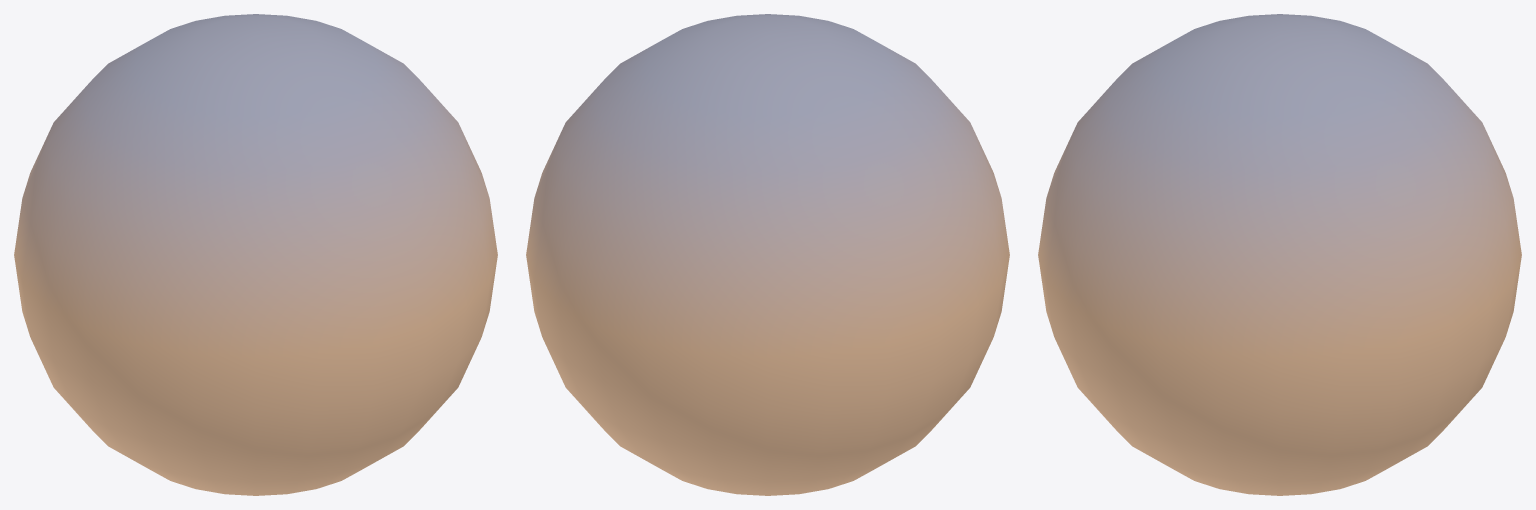
The model's file is sky-sunset.glb.
The picture shows the model from 3 angles, left to right: view 1: azimuth 30°, elevation 25°; view 2: azimuth 150°, elevation 25°; view 3: azimuth 270°, elevation 25°; orthographic projection.
Parts seen in each view (by area): view 1: sky-sunset_mesh; view 2: sky-sunset_mesh; view 3: sky-sunset_mesh.
Part boxes in pixels (left/top/right/bottom): sky-sunset_mesh: left=14, top=14, right=497, bottom=495; sky-sunset_mesh: left=526, top=14, right=1009, bottom=495; sky-sunset_mesh: left=1038, top=14, right=1521, bottom=495.
Bounding box in the file's own units: 124 × 124 × 124.
